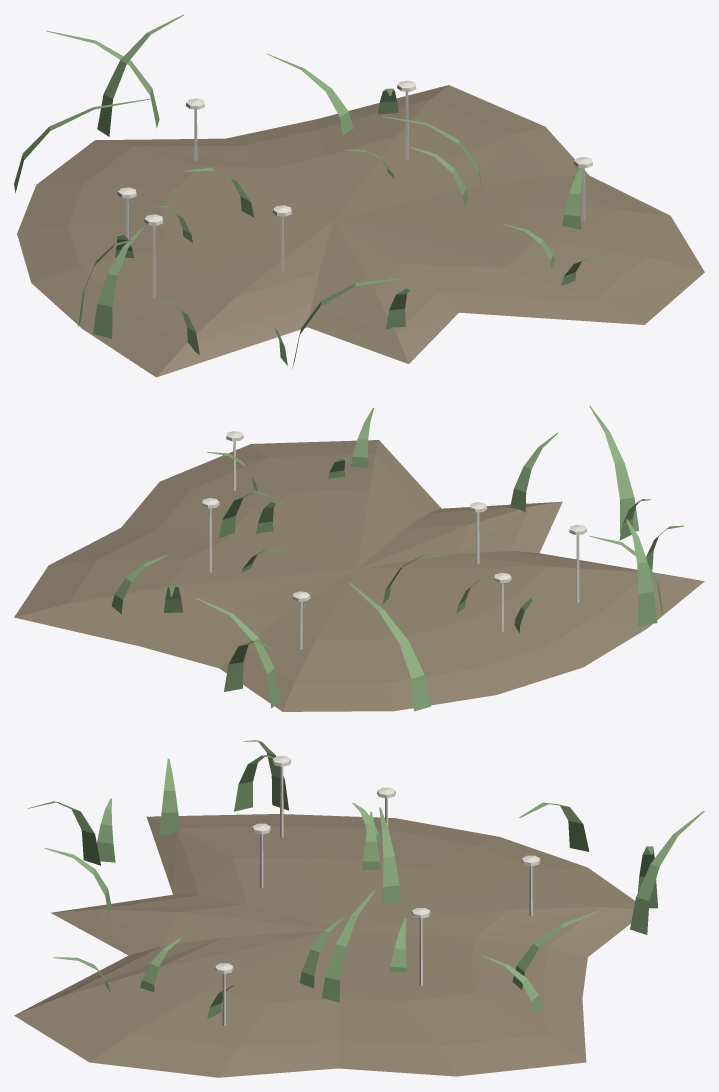
The model's file is wood-anemone-patch.glb.
3 views of the same model, one above another, from view 1: azimuth 30°, elevation 25°; view 2: azimuth 150°, elevation 25°; view 3: azimuth 270°, elevation 25° (orthographic). The views are drawn at different scales.
Parts seen in each view (by area): view 1: wood-anemone-patch; view 2: wood-anemone-patch; view 3: wood-anemone-patch.
Boxes of the visible parts, x1,y1,x2,y2 form: wood-anemone-patch: [14, 14, 704, 377]; wood-anemone-patch: [14, 406, 704, 711]; wood-anemone-patch: [14, 740, 704, 1077].
Size of the model in its own units: 1.3 by 0.2239 by 1.42.
